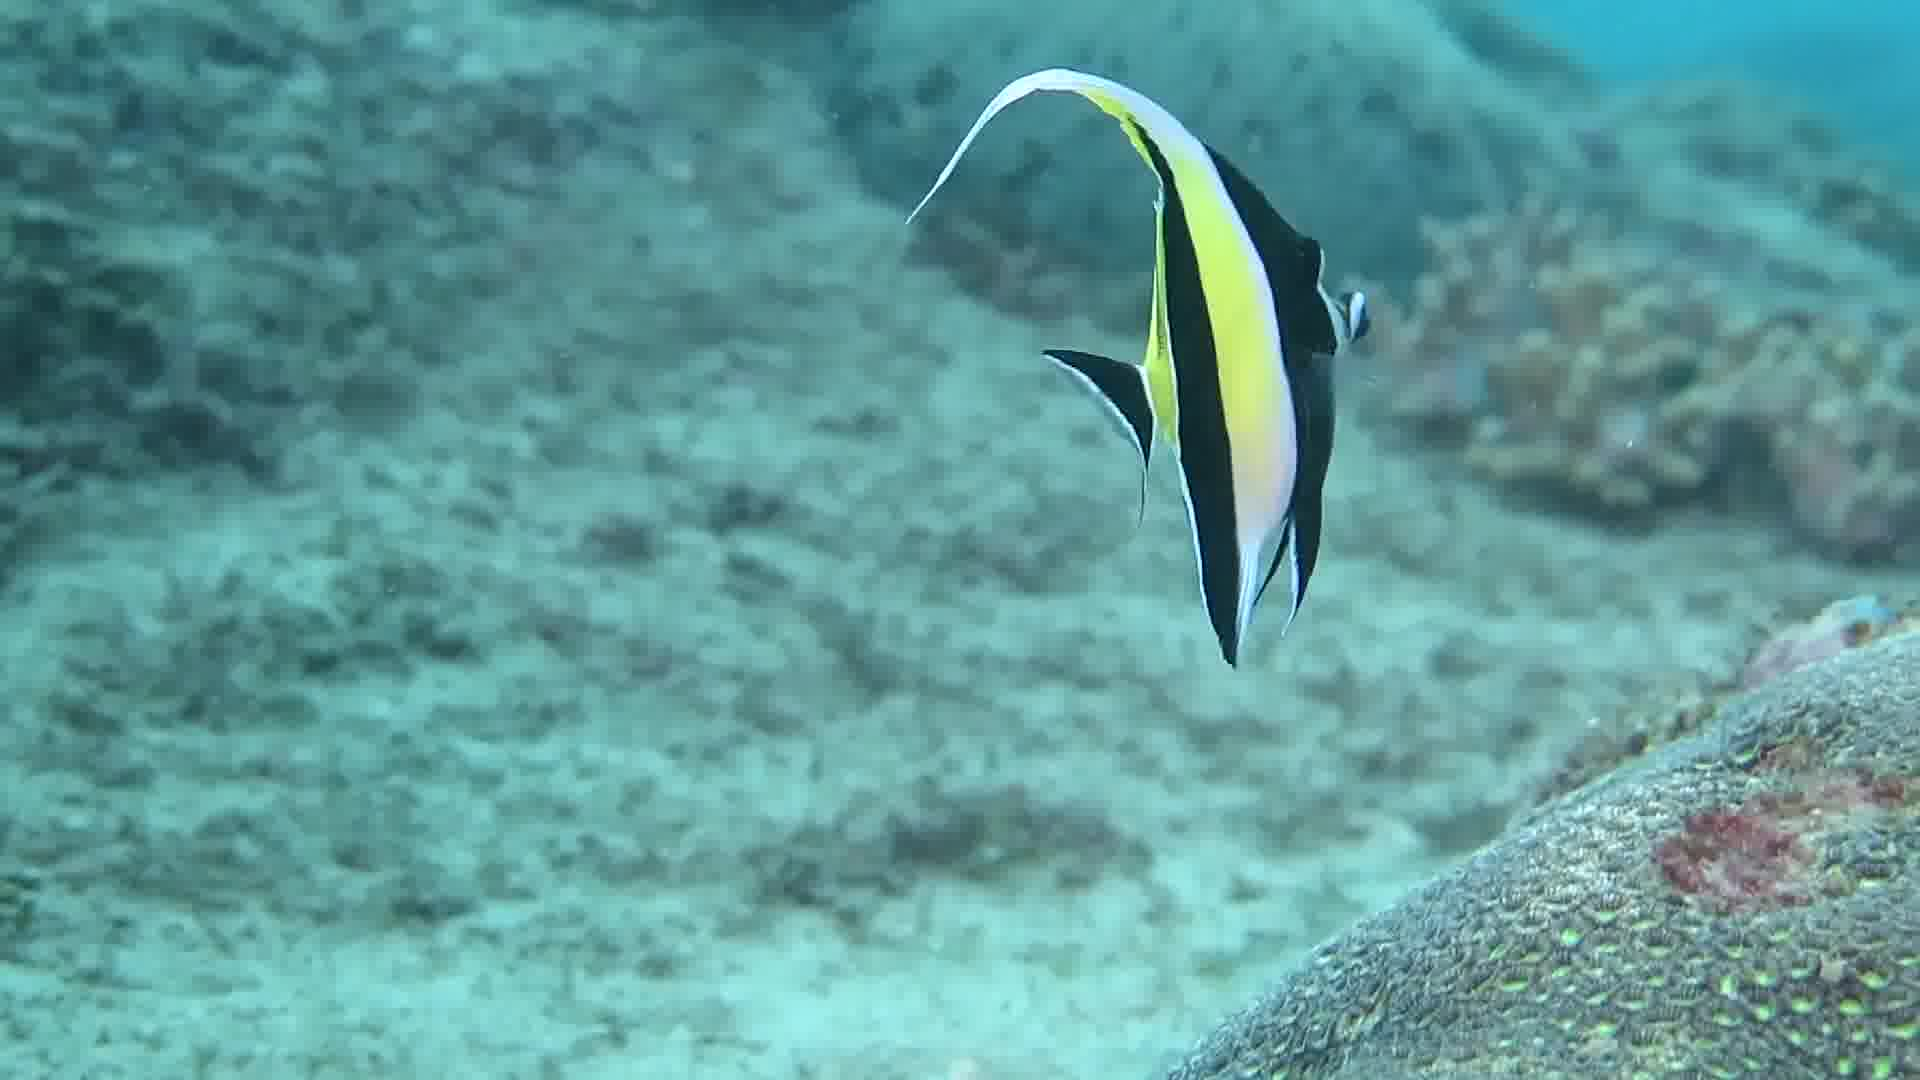Zanclus cornutus: (938, 1, 1447, 769)
